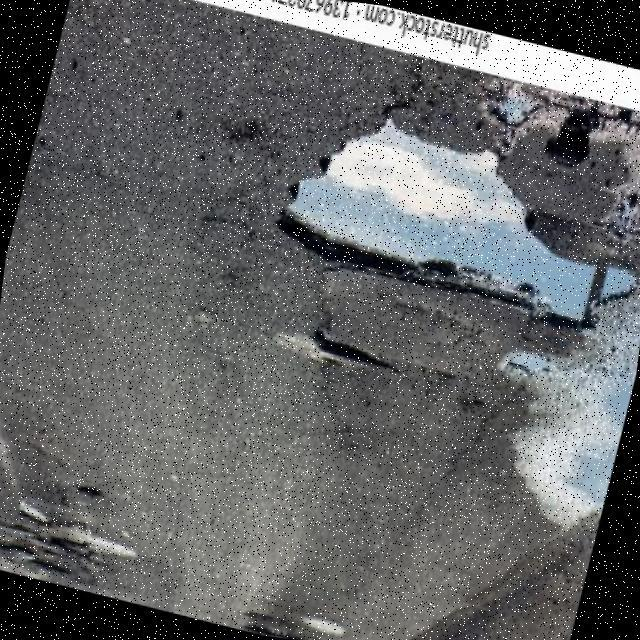Pothole: (281, 116, 635, 332)
